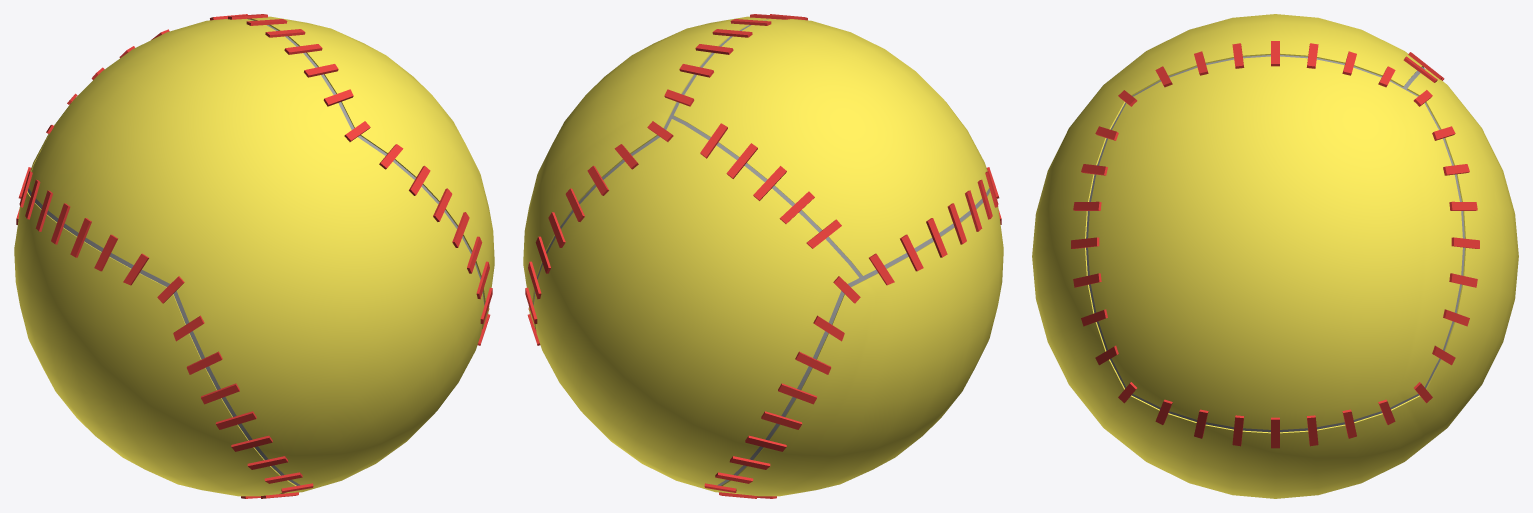
File: softball.glb
3 renders of one model, left to right at view 1: azimuth 30°, elevation 25°; view 2: azimuth 150°, elevation 25°; view 3: azimuth 270°, elevation 25°, orthographic.
Visible parts, largest first — view 1: Roundcube.510; view 2: Roundcube.510; view 3: Roundcube.510.
Boxes of the visible parts, x1,y1,x2,y2 form: Roundcube.510: (14,14,494,498); Roundcube.510: (523,14,1003,498); Roundcube.510: (1032,14,1518,498).
Bounding box in the file's own units: 2.2 × 2.22 × 2.2.
Materials: 1 (1 with a texture image).
